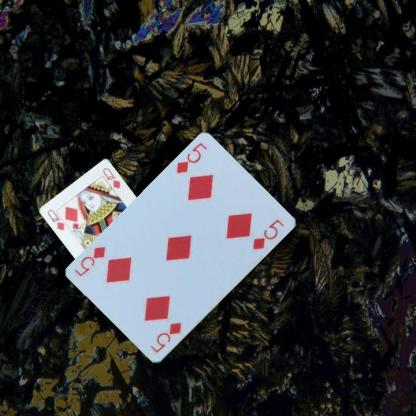5d: (147, 320, 182, 355), (173, 140, 208, 175)
Qd: (45, 207, 71, 232)
